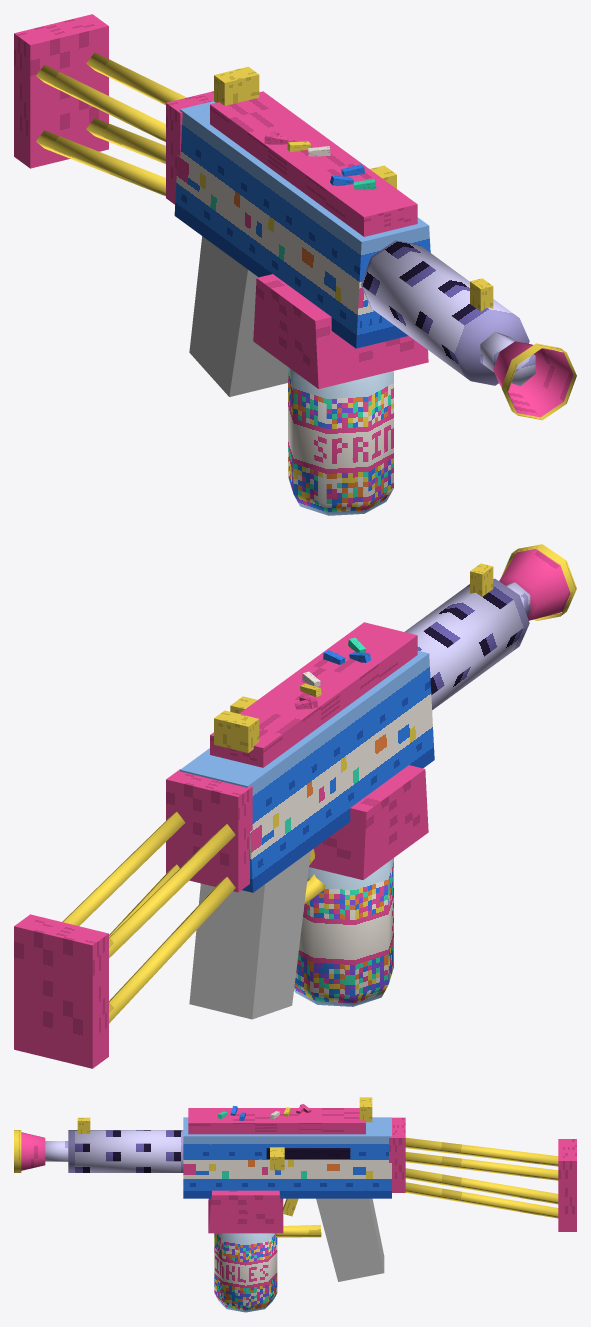
File: Sprinkle SMG.fbx
The picture shows the model from 3 angles, top to bottom: view 1: azimuth 30°, elevation 25°; view 2: azimuth 150°, elevation 25°; view 3: azimuth 270°, elevation 25°; orthographic projection. The views are drawn at different scales.
Visible parts, largest first — view 1: Sprinkle SMG receiver, Sprinkle SMG mag jar, Sprinkle SMG shroud, Sprinkle SMG top cover, Sprinkle SMG butt pad, Sprinkle SMG mag well, Sprinkle SMG grip, Sprinkle SMG flash hider, Sprinkle SMG stock low rod -1, Sprinkle SMG stock rod -1, Sprinkle SMG rear cap, Sprinkle SMG stock rod 1 (+5 smaller); view 2: Sprinkle SMG receiver, Sprinkle SMG grip, Sprinkle SMG butt pad, Sprinkle SMG mag jar, Sprinkle SMG top cover, Sprinkle SMG shroud, Sprinkle SMG mag well, Sprinkle SMG rear cap, Sprinkle SMG flash hider, Sprinkle SMG stock low rod -1, Sprinkle SMG stock rod -1, Sprinkle SMG stock rod 1 (+3 smaller); view 3: Sprinkle SMG receiver, Sprinkle SMG shroud, Sprinkle SMG mag jar, Sprinkle SMG top cover, Sprinkle SMG grip, Sprinkle SMG mag well, Sprinkle SMG butt pad, Sprinkle SMG stock low rod -1, Sprinkle SMG stock low rod 1, Sprinkle SMG stock rod -1, Sprinkle SMG stock rod 1, Sprinkle SMG rear cap (+7 smaller).
Boxes of the visible parts, bbox=[...] form: Sprinkle SMG receiver: bbox=[174, 101, 430, 348]; Sprinkle SMG mag jar: bbox=[288, 367, 393, 515]; Sprinkle SMG shroud: bbox=[361, 240, 529, 385]; Sprinkle SMG top cover: bbox=[210, 91, 417, 236]; Sprinkle SMG butt pad: bbox=[14, 14, 108, 168]; Sprinkle SMG mag well: bbox=[253, 274, 428, 388]; Sprinkle SMG grip: bbox=[189, 236, 287, 396]; Sprinkle SMG flash hider: bbox=[493, 341, 573, 417]; Sprinkle SMG stock low rod -1: bbox=[36, 130, 165, 196]; Sprinkle SMG stock rod -1: bbox=[36, 64, 165, 141]; Sprinkle SMG rear cap: bbox=[166, 91, 213, 204]; Sprinkle SMG stock rod 1: bbox=[86, 52, 186, 105]; Sprinkle SMG receiver: bbox=[180, 650, 434, 892]; Sprinkle SMG grip: bbox=[189, 851, 310, 1019]; Sprinkle SMG butt pad: bbox=[14, 914, 108, 1068]; Sprinkle SMG mag jar: bbox=[294, 858, 393, 1006]; Sprinkle SMG top cover: bbox=[210, 622, 417, 767]; Sprinkle SMG shroud: bbox=[405, 578, 529, 710]; Sprinkle SMG mag well: bbox=[309, 765, 428, 879]; Sprinkle SMG rear cap: bbox=[166, 769, 252, 892]; Sprinkle SMG flash hider: bbox=[499, 549, 570, 620]; Sprinkle SMG stock low rod -1: bbox=[109, 877, 235, 1023]; Sprinkle SMG stock rod -1: bbox=[109, 824, 235, 957]; Sprinkle SMG stock rod 1: bbox=[62, 812, 185, 925]; Sprinkle SMG receiver: bbox=[183, 1117, 391, 1198]; Sprinkle SMG shroud: bbox=[68, 1130, 183, 1172]; Sprinkle SMG mag jar: bbox=[214, 1233, 277, 1312]; Sprinkle SMG top cover: bbox=[188, 1108, 365, 1134]; Sprinkle SMG grip: bbox=[316, 1198, 384, 1281]; Sprinkle SMG mag well: bbox=[208, 1190, 283, 1233]; Sprinkle SMG butt pad: bbox=[558, 1139, 576, 1231]; Sprinkle SMG stock low rod -1: bbox=[405, 1168, 558, 1204]; Sprinkle SMG stock low rod 1: bbox=[405, 1182, 558, 1218]; Sprinkle SMG stock rod -1: bbox=[405, 1137, 558, 1166]; Sprinkle SMG stock rod 1: bbox=[405, 1152, 558, 1180]; Sprinkle SMG rear cap: bbox=[389, 1117, 405, 1192].
Bounding box in the file's own units: 0.084 × 0.21 × 0.539.
